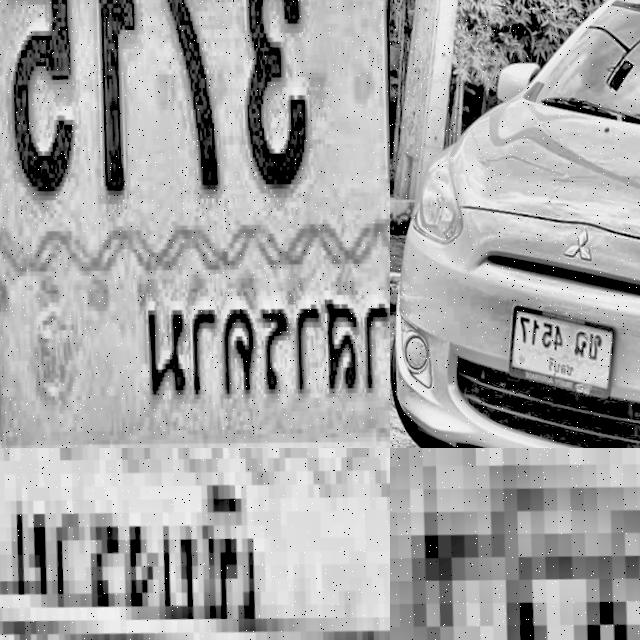license-plate: (0, 0, 390, 448), (0, 448, 390, 640), (390, 448, 640, 640), (506, 292, 628, 404)
